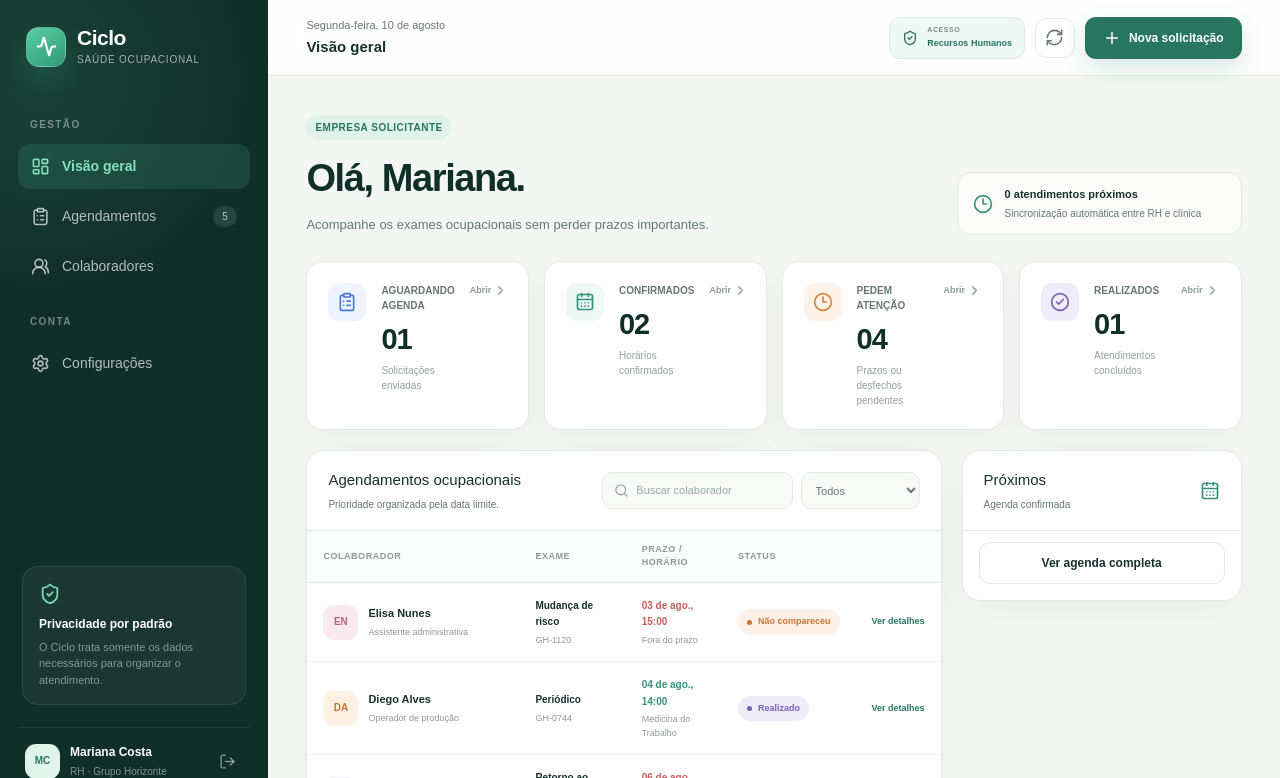
Fluxo operacional por perfil › abre no RH os registros contabilizados e mantém as ações do perfil
Expected: the button with aria-label "Abrir Confirmados: 2 agendamentos" is shown, [544,261,766,430]
Expected: the button "Pedem atenção 04 Prazos ou desfechos pendentes Abrir" is shown, [782,261,1004,430]
Click the button with aria-label "Abrir Aguardando agenda: 1 agendamento". click: click(418, 346)
box: [306,261,529,430]
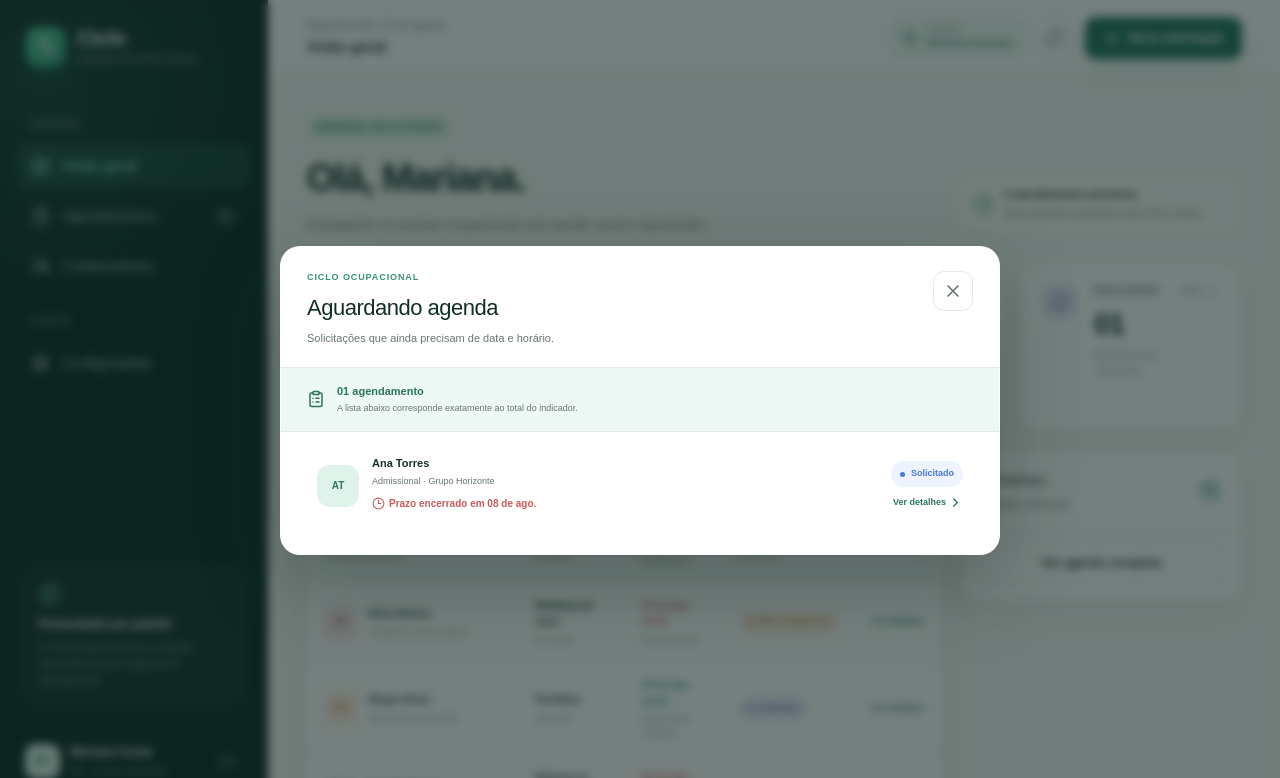
Now the text "01 agendamento" is shown, box [337,384,424,396]
Now the button with aria-label "Ver detalhes de Ana Torres" is shown
Click the button with aria-label "Ver detalhes de Ana Torres". click: click(338, 486)
box: [307,440,973,532]
(page scrolled)
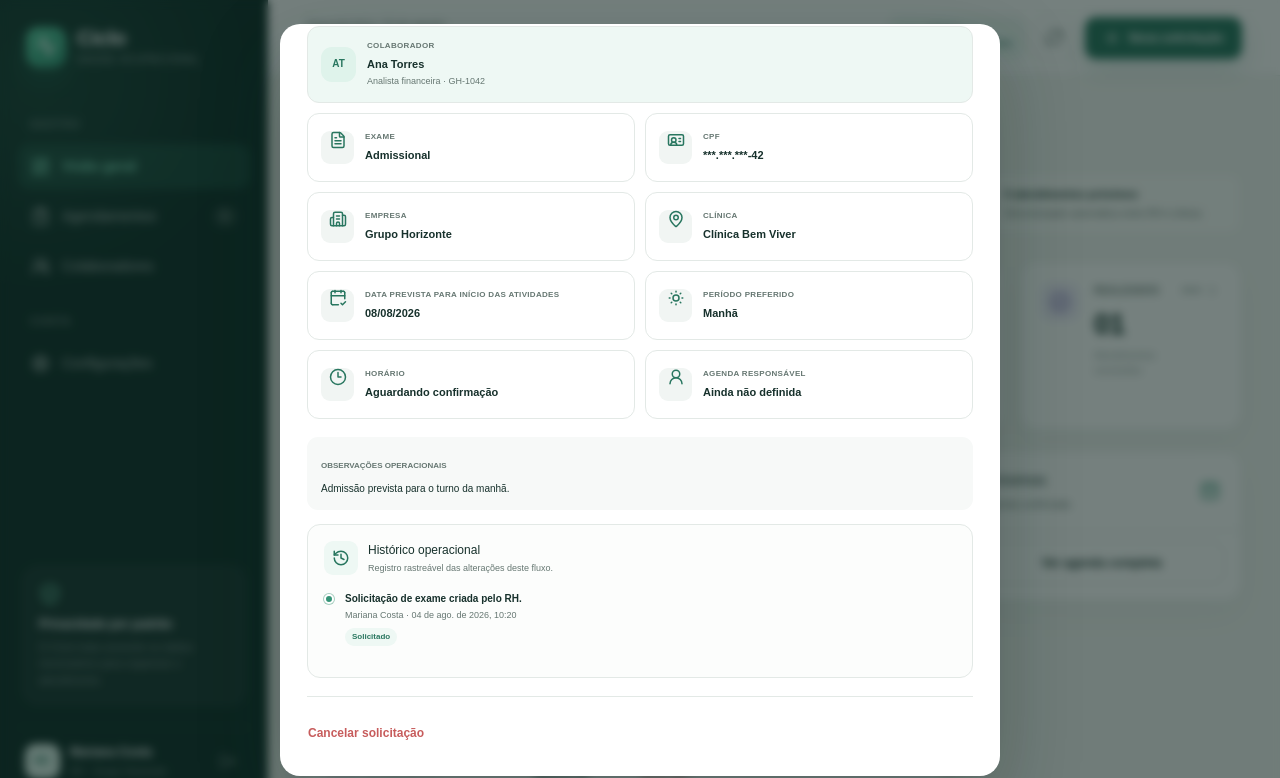
Now the button "Cancelar solicitação" is shown, box [307,714,425,750]
Now the text "Manhã" is shown, box [703,307,738,319]
Now the text "***.***.***-42" is shown, box [703,147,764,163]
